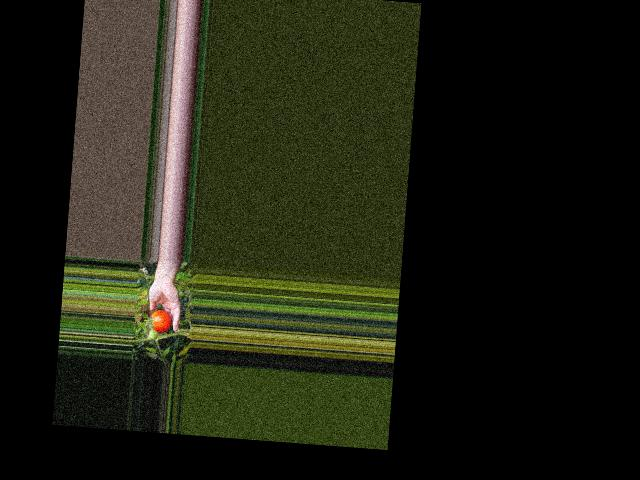tomato: (150, 308, 172, 333)
